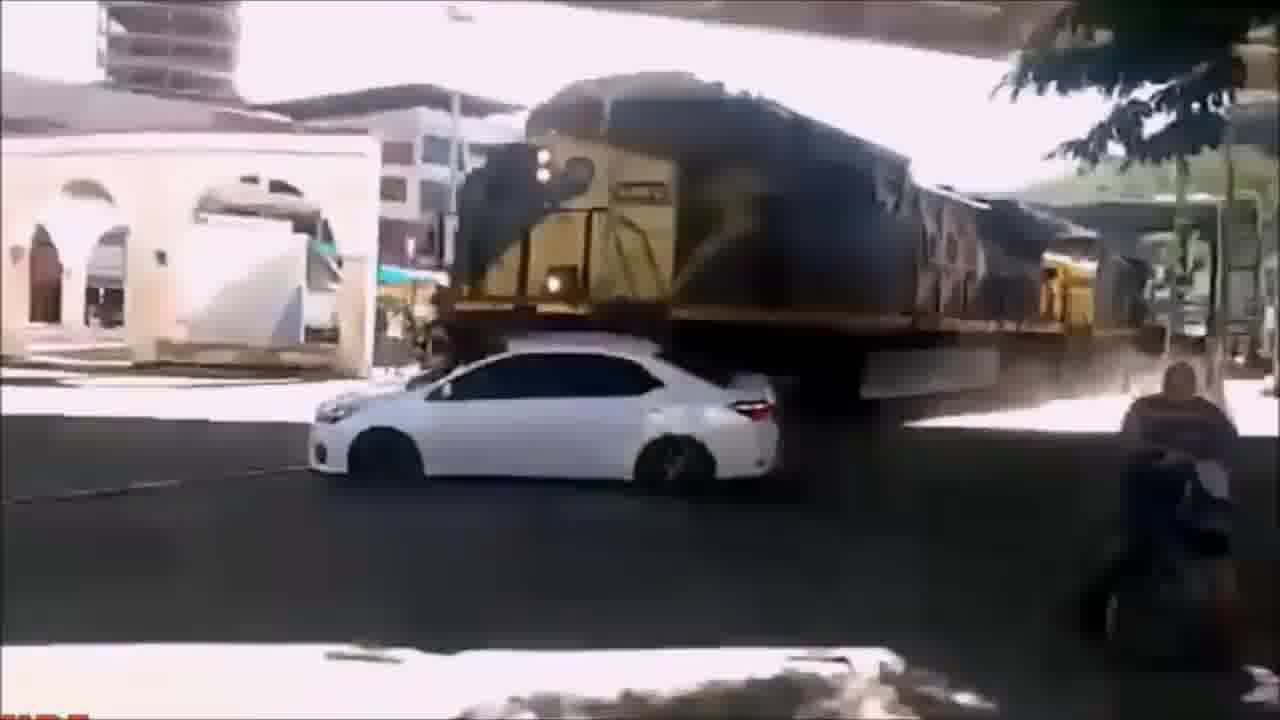crossing railway track: (237, 272, 834, 503)
